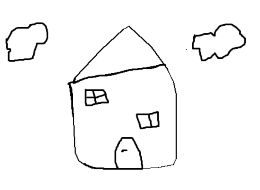closed_window: (84, 88, 109, 106), (136, 110, 159, 129)
clouds: (190, 22, 248, 62), (4, 21, 48, 61)
door: (111, 133, 145, 174)
roof: (74, 25, 165, 82)
wall: (60, 64, 181, 173)
